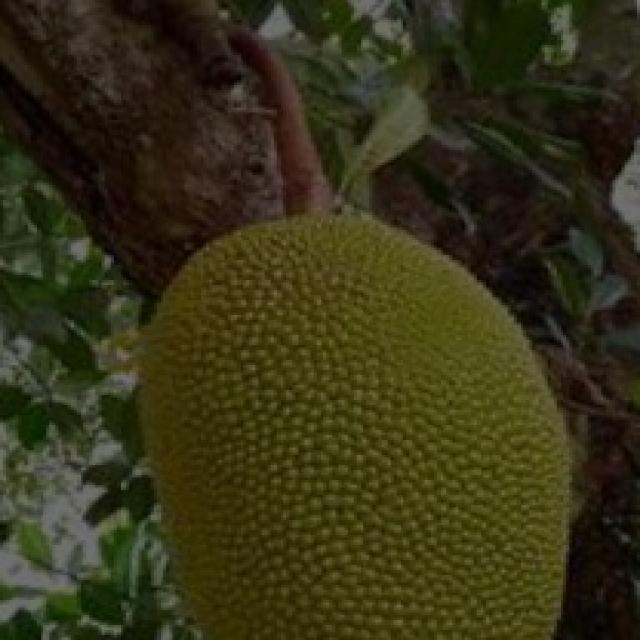Fruit: (262, 183, 618, 635)
